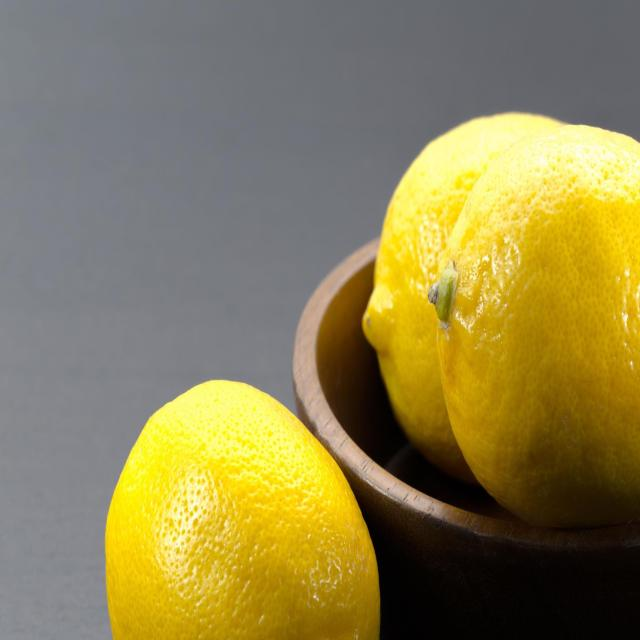lemon: (417, 112, 640, 540)
